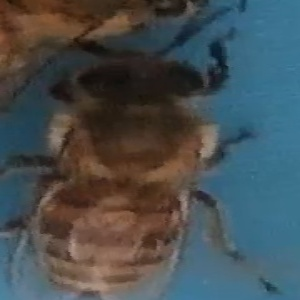bee: (62, 49, 277, 299)
